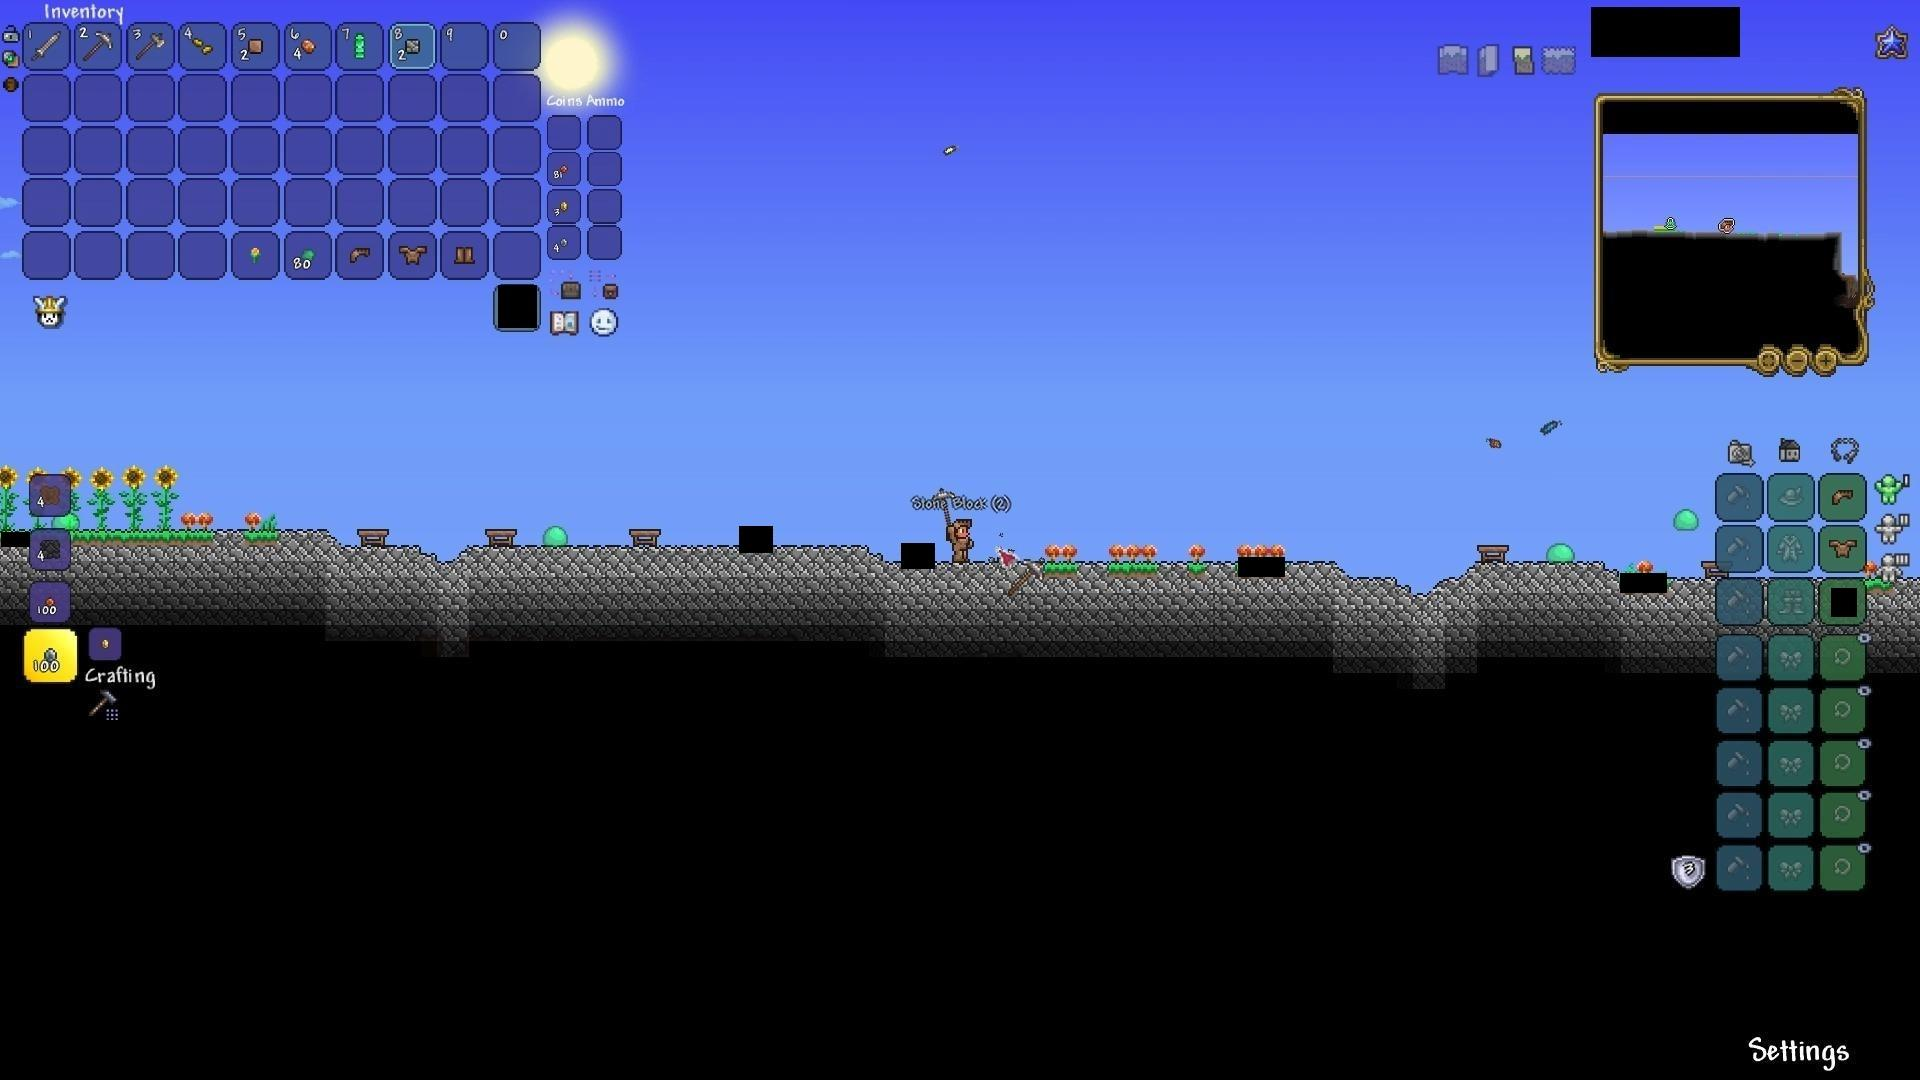breastplate: (398, 241, 427, 262), (1830, 537, 1859, 558)
dirt: (70, 530, 214, 546), (1109, 560, 1154, 579), (244, 529, 277, 546), (1044, 560, 1077, 578)
helmet: (345, 243, 375, 268), (1829, 484, 1857, 509)
legs: (452, 241, 477, 265)
slime: (1669, 506, 1701, 535), (1543, 538, 1576, 564), (541, 520, 570, 546), (51, 509, 80, 531)
workbench: (1477, 542, 1513, 568), (485, 527, 520, 551), (356, 526, 392, 549), (629, 526, 659, 551), (1700, 560, 1731, 580)
